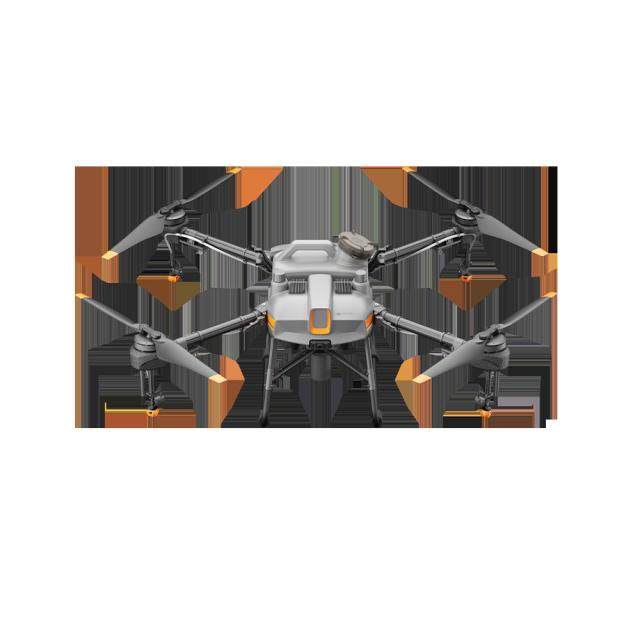drone: (59, 160, 589, 478)
